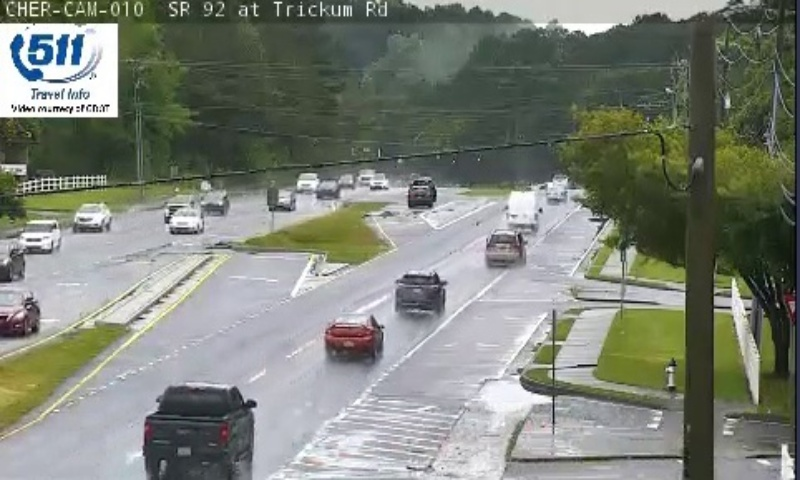car: (144, 384, 255, 469), (325, 315, 383, 355), (395, 270, 444, 312), (484, 232, 524, 263)
van: (507, 191, 537, 229)
